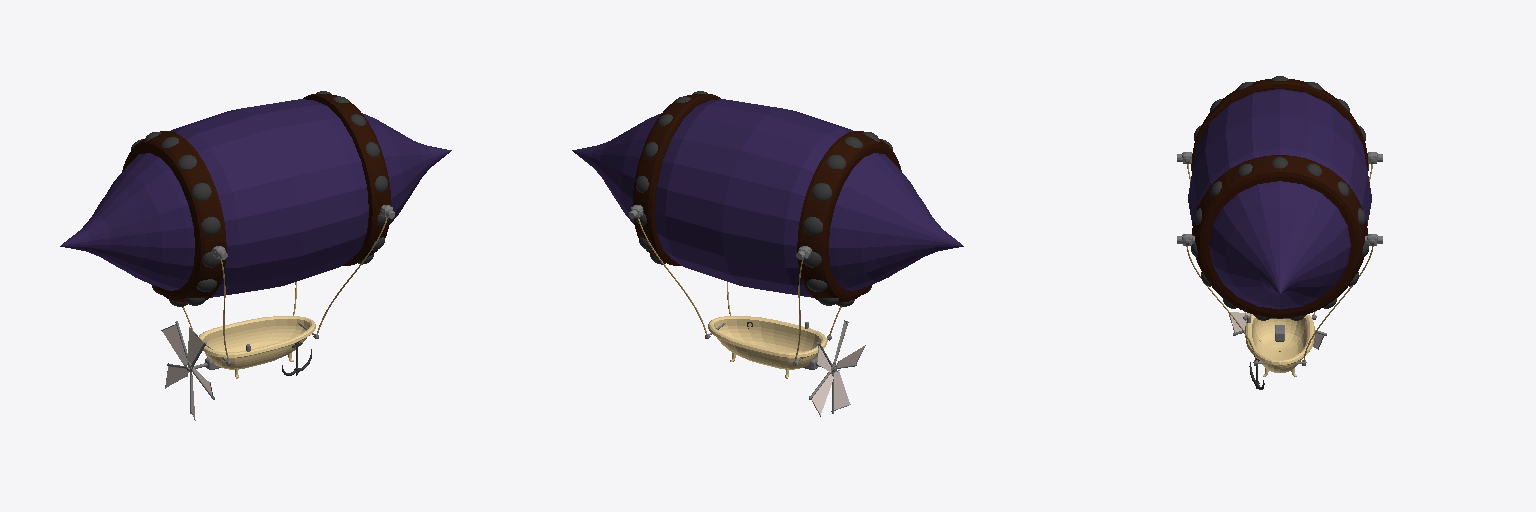
The model's file is Airship.obj.
The picture shows the model from 3 angles: view 1: azimuth 30°, elevation 25°; view 2: azimuth 150°, elevation 25°; view 3: azimuth 270°, elevation 25°; orthographic projection.
Parts seen in each view (by area): view 1: polySurface1; view 2: polySurface1; view 3: polySurface1.
Part boxes in pixels (x1,y1,x2,y2): polySurface1: (60,91,451,420); polySurface1: (572,91,963,416); polySurface1: (1177,76,1382,389).
Bounding box in the file's own units: 104 × 71.58 × 47.45.